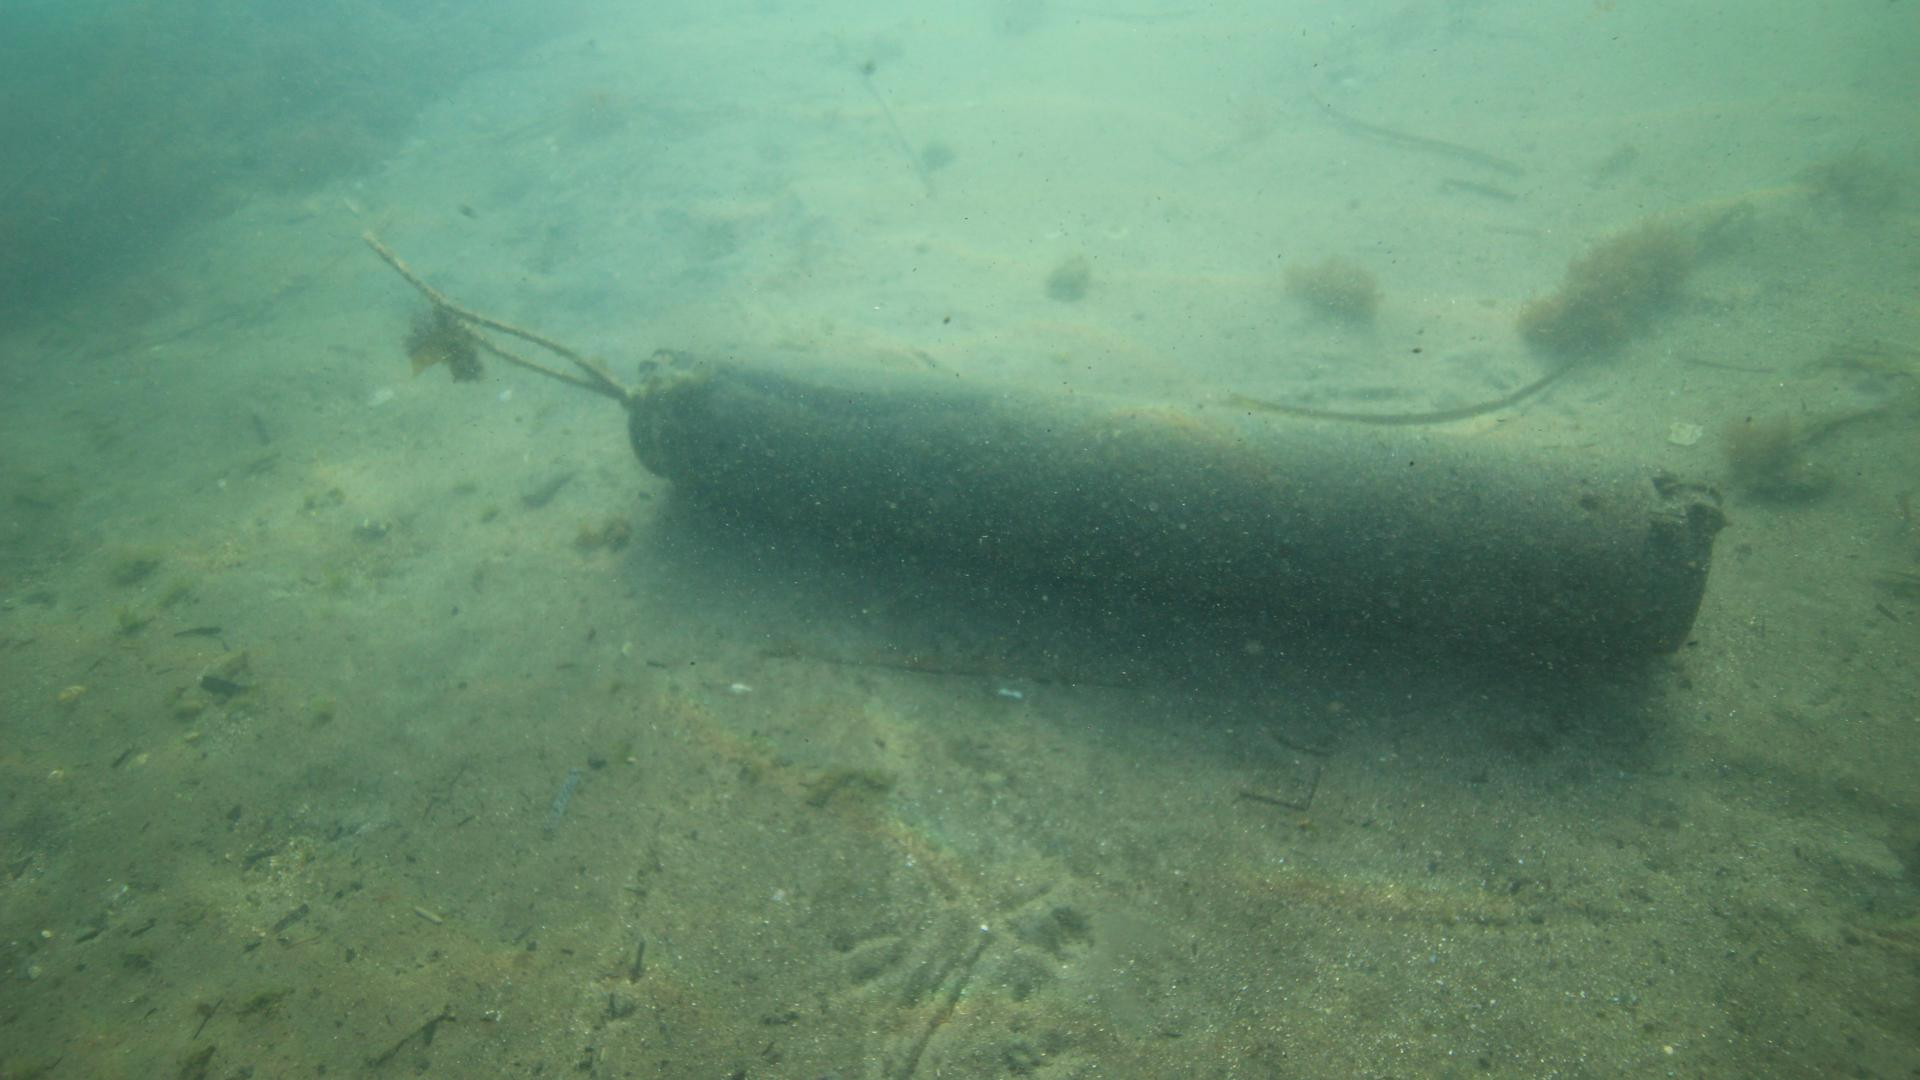bundle of ropes: (363, 220, 618, 396)
eel fish trap: (628, 331, 1724, 663)
